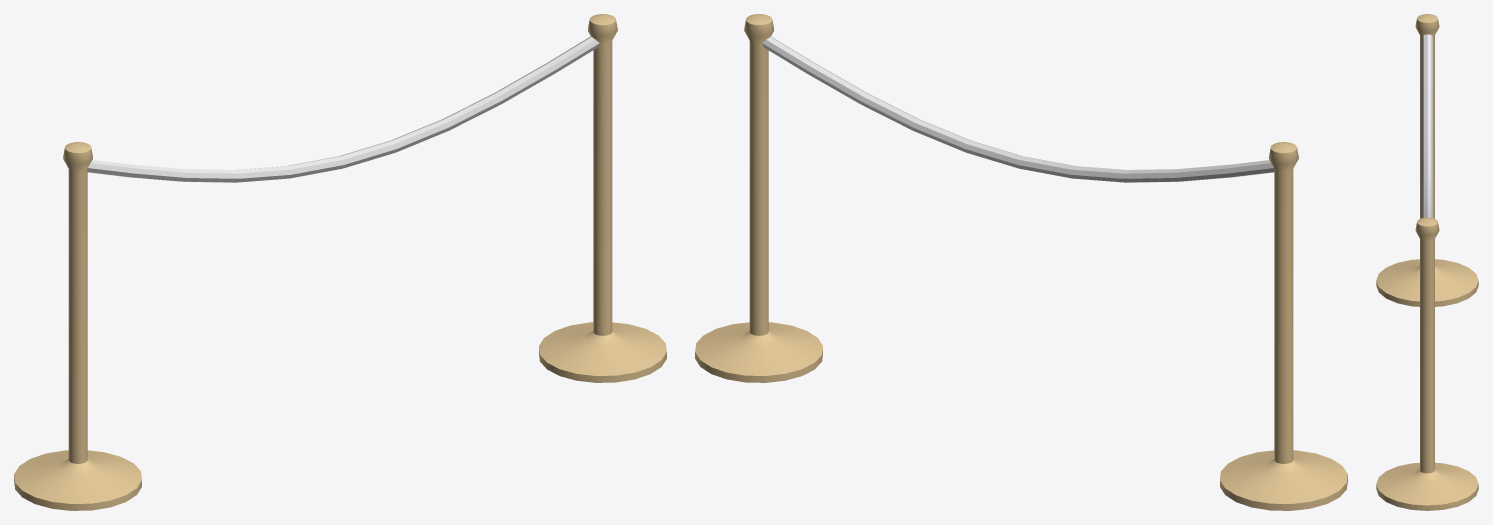
File: SM_Stanchion_Pair.fbx
3 renders of one model, left to right at view 1: azimuth 30°, elevation 25°; view 2: azimuth 150°, elevation 25°; view 3: azimuth 270°, elevation 25°, orthographic. The views are drawn at different scales.
Visible parts, largest first — view 1: SM_Stanchion_Pair_1; view 2: SM_Stanchion_Pair_1; view 3: SM_Stanchion_Pair_1.
Boxes of the visible parts, box(x1,y1,x2,y2) form: SM_Stanchion_Pair_1: box(14, 14, 666, 510); SM_Stanchion_Pair_1: box(695, 14, 1347, 510); SM_Stanchion_Pair_1: box(1376, 14, 1478, 510).
Bounding box in the file's own units: 194 × 99 × 34.
